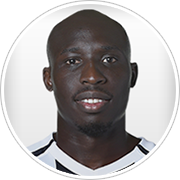smile: (74, 92, 111, 112)
